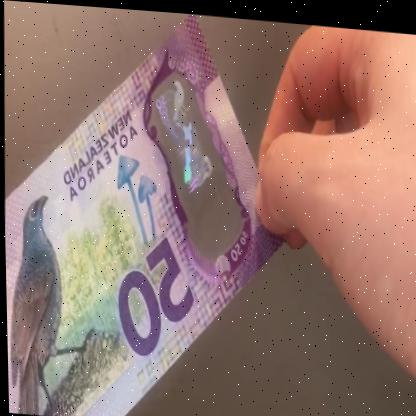50B: (152, 72, 220, 236)
